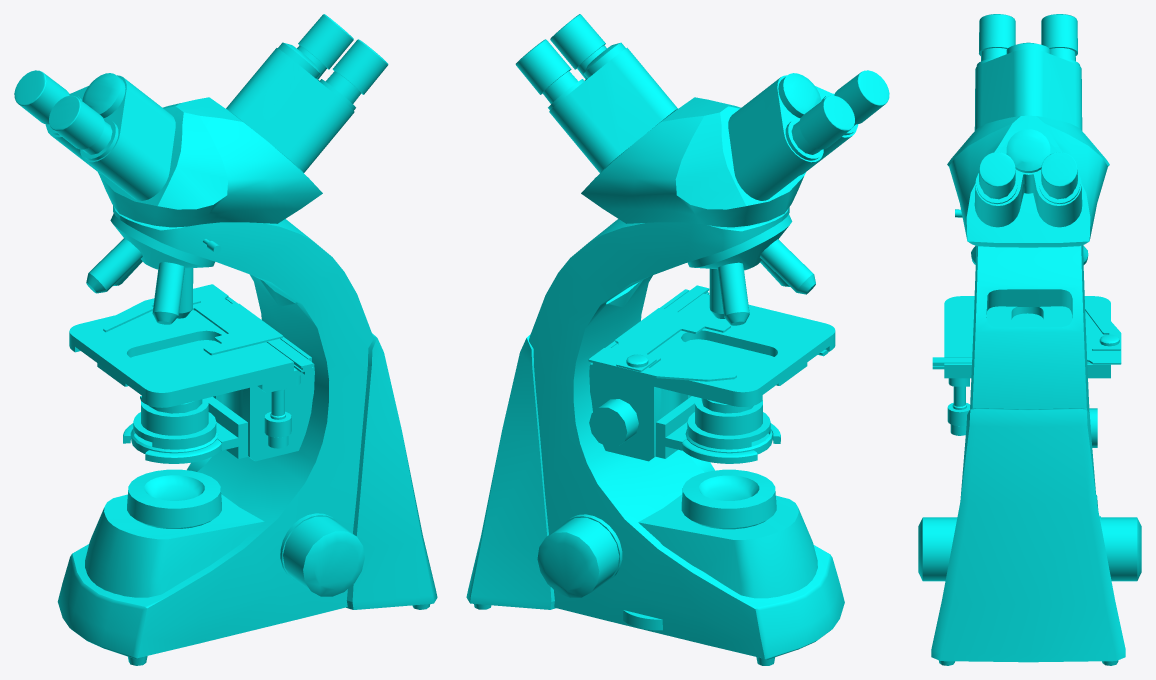
File: SM_Microscope_01a.FBX
3 views of the same model, side by side, from view 1: azimuth 30°, elevation 25°; view 2: azimuth 150°, elevation 25°; view 3: azimuth 270°, elevation 25° (orthographic). The views are drawn at different scales.
Visible parts, largest first — view 1: SM_Microscope_01a_LOD0; view 2: SM_Microscope_01a_LOD0; view 3: SM_Microscope_01a_LOD0.
Boxes of the visible parts, x1,y1,x2,y2 form: SM_Microscope_01a_LOD0: (14, 14, 437, 665); SM_Microscope_01a_LOD0: (466, 14, 889, 665); SM_Microscope_01a_LOD0: (918, 14, 1141, 665).
Size of what is drawn, in the model's own units: 21.63 by 32.82 by 13.04.
